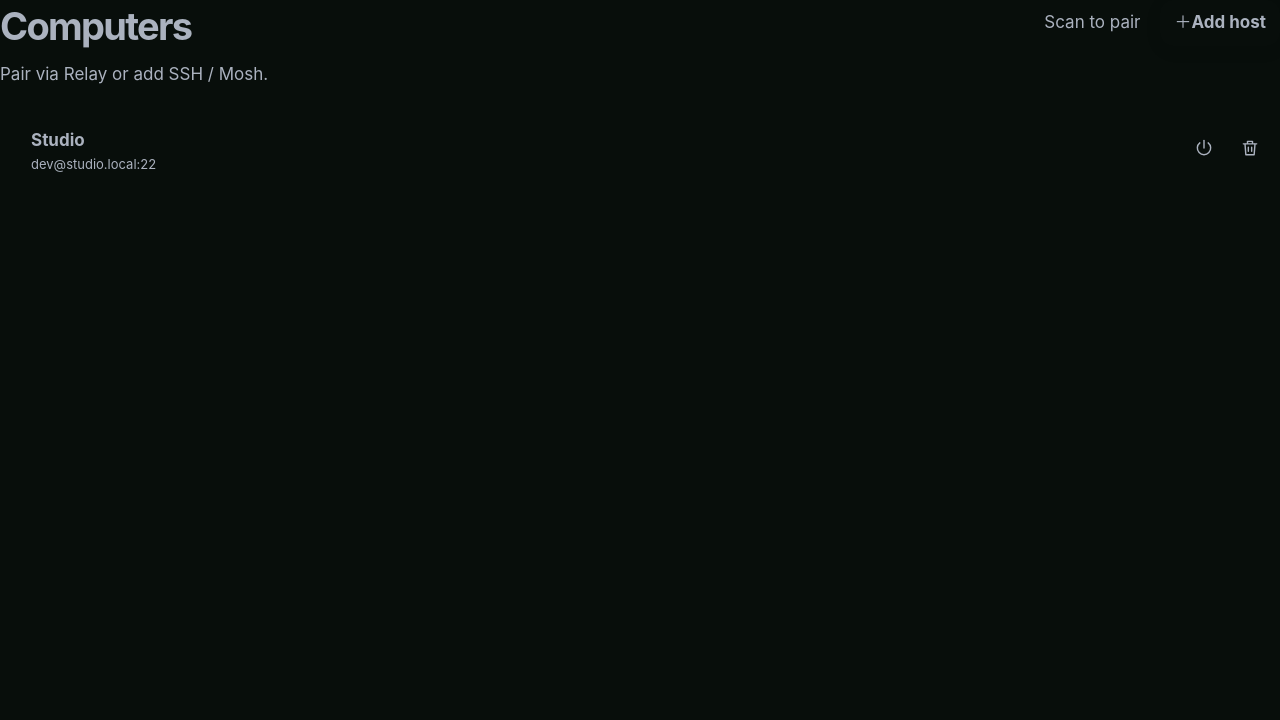
Test case: host authentication manager › uses compact named icon actions and keeps deletion behind confirmation
The width and height of the screenshot is (1280, 720).
Expected: the heading "Computers" is shown, [0,3,191,49]
Expected: the button named "Connect" is empty, [1182,126,1226,170]
Click the button named "Delete": x=1250, y=148 [1228,126,1272,170]
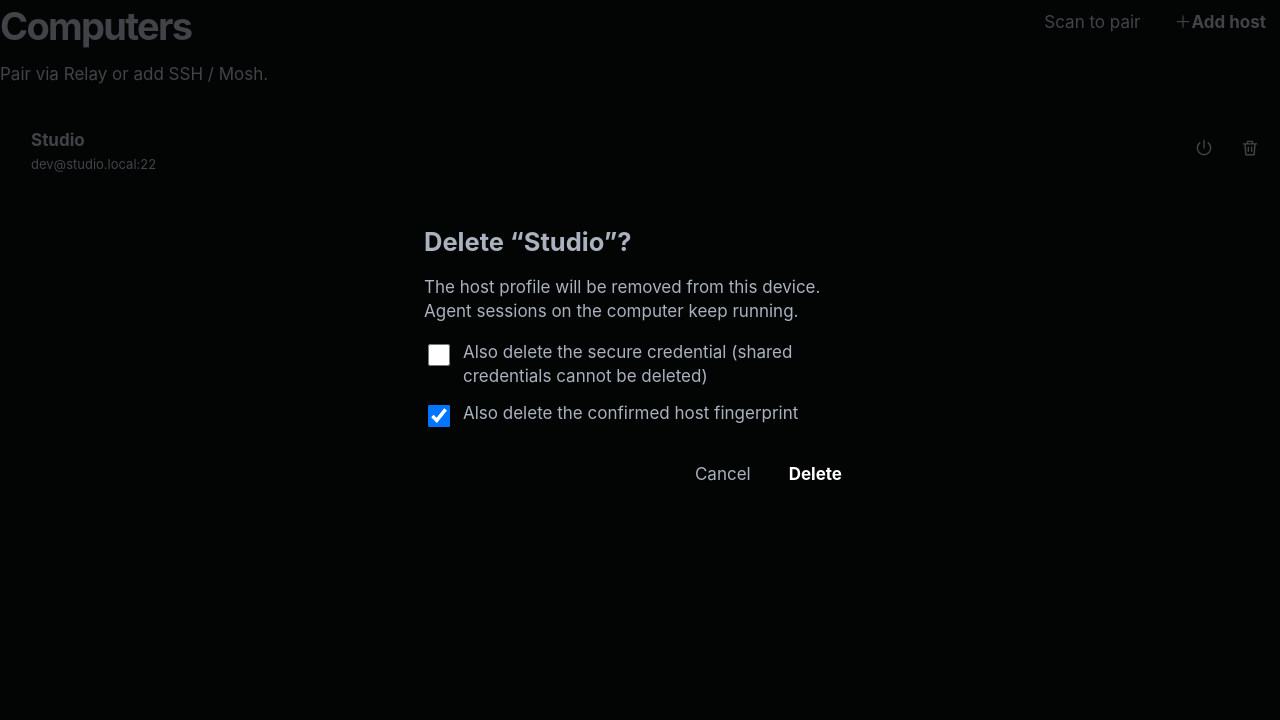
Result: the dialog is shown at [400,200,880,520]
